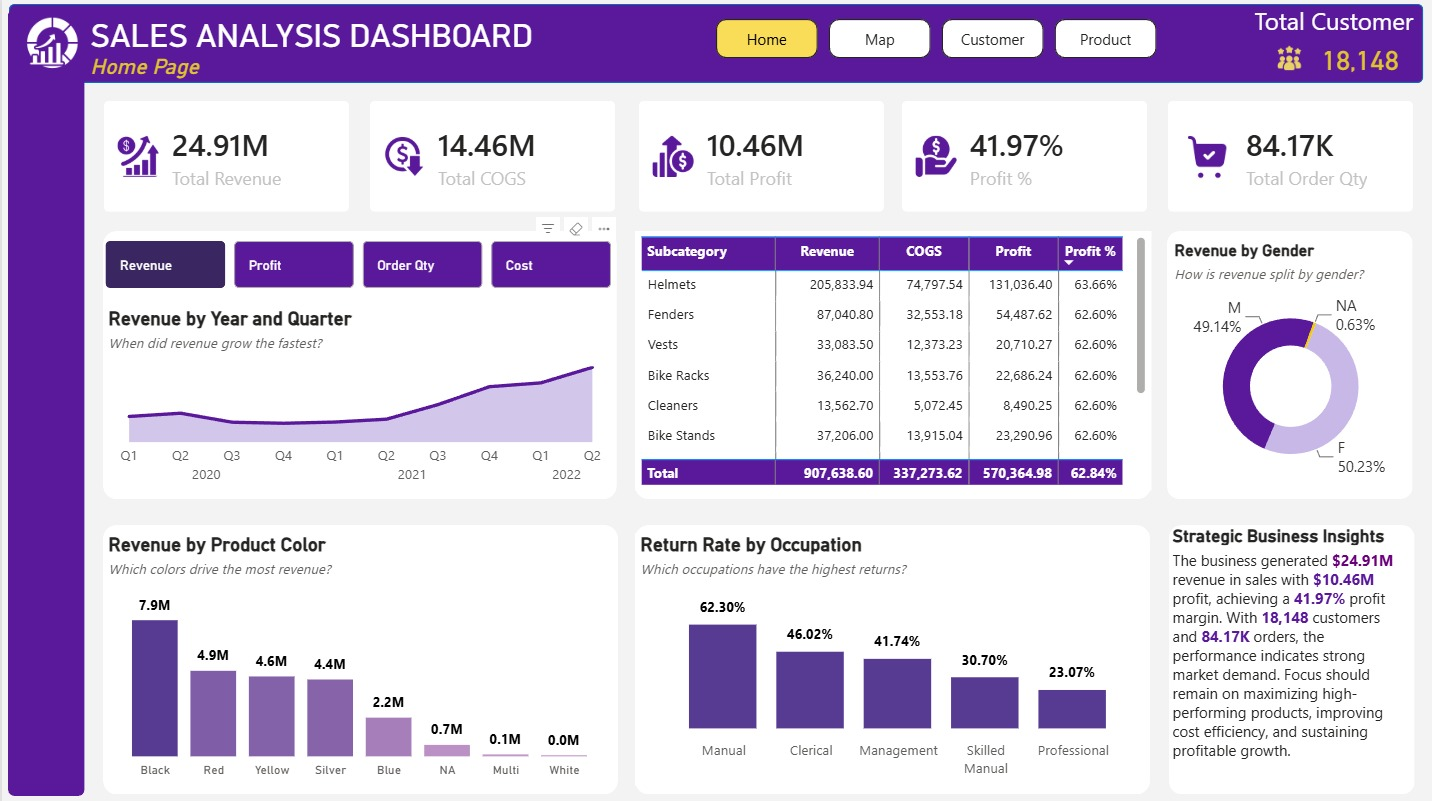

Layout of this report page (visuals, bound fields, positions):
{"tool":"powerbi","page":{"name":"Home","canvas":[1280,720],"ordinal":0},"visuals":[{"type":"textbox","box":[1115.7,0,155.2,45.4],"z":0,"group":"g1"},{"type":"shape","box":[6,4,1264.9,70.6],"z":0},{"type":"shape","box":[5.8,9.3,68.5,703.9],"z":1000},{"type":"card","fields":{"Values":["All Calculation.No of Customer"]},"box":[1167.1,36.3,96.8,34.3],"z":1000,"group":"g1"},{"type":"image","box":[16.1,15.1,58.5,48.4],"z":2000},{"type":"image","box":[1135.9,40.3,31.2,25.2],"z":2000,"group":"g1"},{"type":"textbox","box":[74.6,11.1,521.1,86.7],"z":3000},{"type":"group","id":"g1","title":"Group 1","box":[1115.7,0,155.2,70.6],"z":4000},{"type":"cardVisual","fields":{"Data":["All Calculation.Total Revenue"]},"box":[74.6,74.6,254,133],"z":5000},{"type":"cardVisual","fields":{"Data":["All Calculation.Total COGS"]},"box":[312.4,74.6,254,133],"z":6000},{"type":"cardVisual","fields":{"Data":["All Calculation.Total Profit"]},"box":[552.3,74.6,254,133],"z":7000},{"type":"cardVisual","fields":{"Data":["All Calculation.Profit %"]},"box":[788.2,74.6,254,133],"z":8000},{"type":"cardVisual","fields":{"Data":["All Calculation.Total Order Qty"]},"box":[1026,74.6,254,133],"z":9000},{"type":"shape","box":[90.7,207.6,459.6,239.9],"z":10000},{"type":"shape","box":[90.7,470.7,460.6,240.9],"z":11000},{"type":"shape","box":[566.4,470.7,460.6,240.9],"z":12000},{"type":"shape","box":[566.4,207.6,461.6,239.9],"z":13000},{"type":"shape","box":[1042.1,207.6,219.7,239.9],"z":14000},{"type":"shape","box":[1044.2,470.7,219.7,240.9],"z":15000},{"type":"areaChart","fields":{"Category":["Calendar.Date Hierarchy.Year","Calendar.Date Hierarchy.Quarter","Calendar.Date Hierarchy.Month Name"],"Y":["All Calculation.Total Order Qty"]},"box":[90.6,275.3,461.1,171.9],"z":16000},{"type":"advancedSlicerVisual","fields":{"Values":["KPI Parameter.KPI Parameter"]},"box":[87.7,216.7,462.6,47.4],"z":17000},{"type":"tableEx","fields":{"Values":["Product Subcategories Lookup.SubcategoryName","All Calculation.Total Revenue","All Calculation.Total COGS","All Calculation.Total Profit","All Calculation.Profit %"]},"box":[566.4,207.6,461.6,231.8],"z":18000},{"type":"donutChart","title":"Revenue by Gender","fields":{"Category":["Customer Lookup.Gender"],"Y":["All Calculation.Total Revenue"]},"box":[1044.2,216.7,217.7,222.7],"z":19000},{"type":"clusteredColumnChart","title":"Revenue by Product Color","fields":{"Category":["Product Lookup.ProductColor"],"Y":["All Calculation.Total Revenue"]},"box":[90.7,477.7,459.6,225.8],"z":20000},{"type":"textbox","title":"Strategic Business Insights","box":[1042.1,470.7,219.7,232.8],"z":21000},{"type":"pageNavigator","box":[299.6,20.2,140.2,33.3],"z":22000},{"type":"pageNavigator","box":[639,18.1,394.6,35.5],"z":23000},{"type":"lineClusteredColumnComboChart","title":"Return Rate by Occupation","fields":{"Category":["Customer Lookup.Occupation"],"Y":["All Calculation.Return Rate"]},"box":[566.4,477.7,459.6,225.8],"z":24000}]}

Visuals, with their boxes in screenshot pixels (x1, y1, x2, y2), scaled from the page's 1280x720 canvas onto the 1432x801 screenshot:
textbox: [left=1248, top=0, right=1422, bottom=51]
shape: [left=7, top=4, right=1422, bottom=83]
shape: [left=6, top=10, right=83, bottom=793]
card - All Calculation.No of Customer: [left=1306, top=40, right=1414, bottom=79]
image: [left=18, top=17, right=83, bottom=71]
image: [left=1271, top=45, right=1306, bottom=73]
textbox: [left=83, top=12, right=666, bottom=109]
"Group 1" group: [left=1248, top=0, right=1422, bottom=79]
cardVisual - All Calculation.Total Revenue: [left=83, top=83, right=368, bottom=231]
cardVisual - All Calculation.Total COGS: [left=349, top=83, right=634, bottom=231]
cardVisual - All Calculation.Total Profit: [left=618, top=83, right=902, bottom=231]
cardVisual - All Calculation.Profit %: [left=882, top=83, right=1166, bottom=231]
cardVisual - All Calculation.Total Order Qty: [left=1148, top=83, right=1431, bottom=231]
shape: [left=101, top=231, right=616, bottom=498]
shape: [left=101, top=524, right=617, bottom=792]
shape: [left=634, top=524, right=1149, bottom=792]
shape: [left=634, top=231, right=1150, bottom=498]
shape: [left=1166, top=231, right=1412, bottom=498]
shape: [left=1168, top=524, right=1414, bottom=792]
areaChart - Calendar.Date Hierarchy.Year x Calendar.Date Hierarchy.Quarter: [left=101, top=306, right=617, bottom=498]
advancedSlicerVisual - KPI Parameter.KPI Parameter: [left=98, top=241, right=616, bottom=294]
tableEx - Product Subcategories Lookup.SubcategoryName x All Calculation.Total Revenue: [left=634, top=231, right=1150, bottom=489]
"Revenue by Gender" donutChart: [left=1168, top=241, right=1412, bottom=489]
"Revenue by Product Color" clusteredColumnChart: [left=101, top=531, right=616, bottom=783]
"Strategic Business Insights" textbox: [left=1166, top=524, right=1412, bottom=783]
pageNavigator: [left=335, top=22, right=492, bottom=60]
pageNavigator: [left=715, top=20, right=1156, bottom=60]
"Return Rate by Occupation" lineClusteredColumnComboChart: [left=634, top=531, right=1148, bottom=783]
